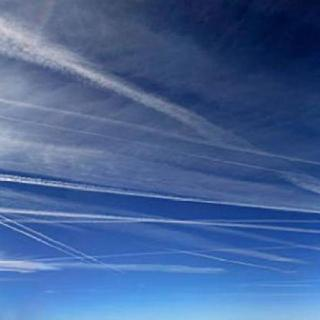Contrails: (0, 0, 320, 316)
